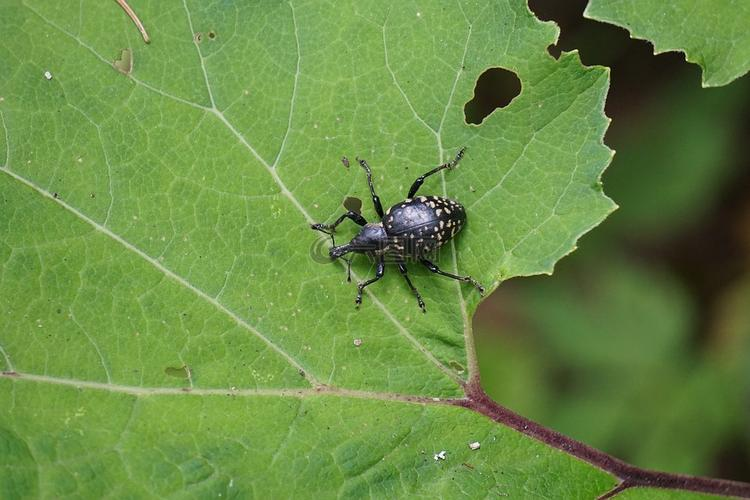Curculionidae: (307, 145, 486, 312)
